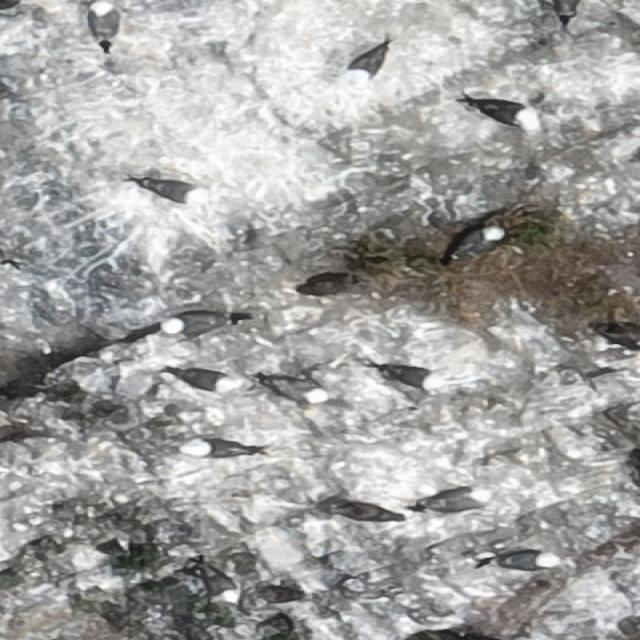umineko: (470, 97, 543, 132), (344, 41, 390, 86), (372, 364, 444, 392), (159, 312, 242, 336), (142, 177, 208, 205), (176, 367, 239, 393), (423, 488, 490, 511), (453, 226, 508, 253), (274, 379, 328, 404), (202, 566, 236, 603), (493, 552, 555, 572), (182, 441, 260, 456), (460, 227, 502, 253), (94, 2, 116, 45)
